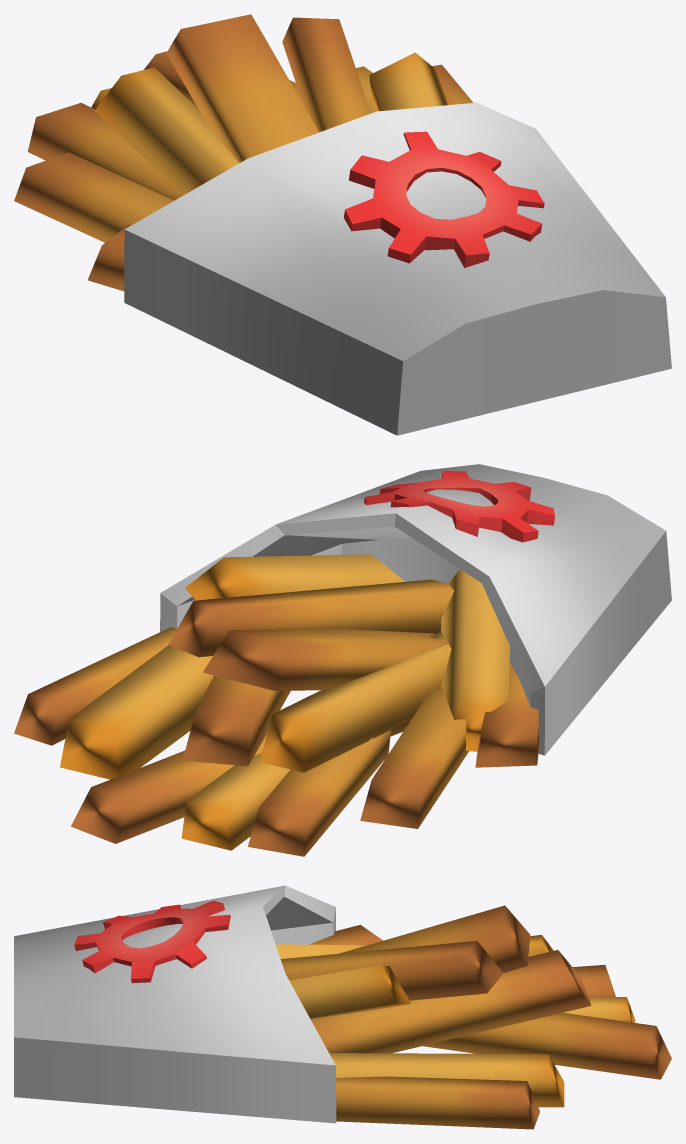
File: M_Food_Fries_003.fbx
3 views of the same model, one above another, from view 1: azimuth 30°, elevation 25°; view 2: azimuth 150°, elevation 25°; view 3: azimuth 270°, elevation 25° (orthographic). The views are drawn at different scales.
Visible parts, largest first — view 1: Fries3; view 2: Fries3; view 3: Fries3.
Boxes of the visible parts, x1,y1,x2,y2 form: Fries3: (14,14,671,435); Fries3: (14,464,671,856); Fries3: (14,885,671,1129).
Bounding box in the file's own units: 36.42 × 13.47 × 57.62.
